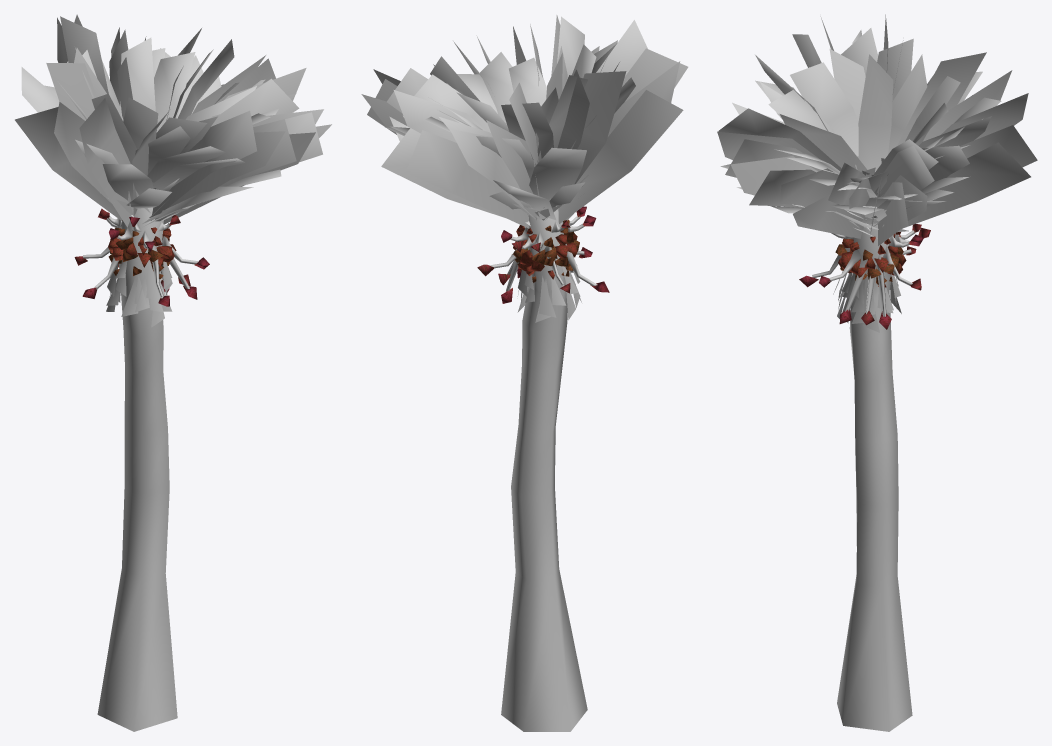
File: Tree6_1_L3.fbx
The picture shows the model from 3 angles, left to right: view 1: azimuth 30°, elevation 25°; view 2: azimuth 150°, elevation 25°; view 3: azimuth 270°, elevation 25°; orthographic projection. The views are drawn at different scales.
Parts seen in each view (by area): view 1: polySurface52; view 2: polySurface52; view 3: polySurface52.
Part boxes in pixels (left/top/right/bottom): polySurface52: left=15, top=14, right=331, bottom=731; polySurface52: left=361, top=15, right=688, bottom=731; polySurface52: left=717, top=14, right=1037, bottom=731.
Bounding box in the file's own units: 665 × 1412 × 623.
